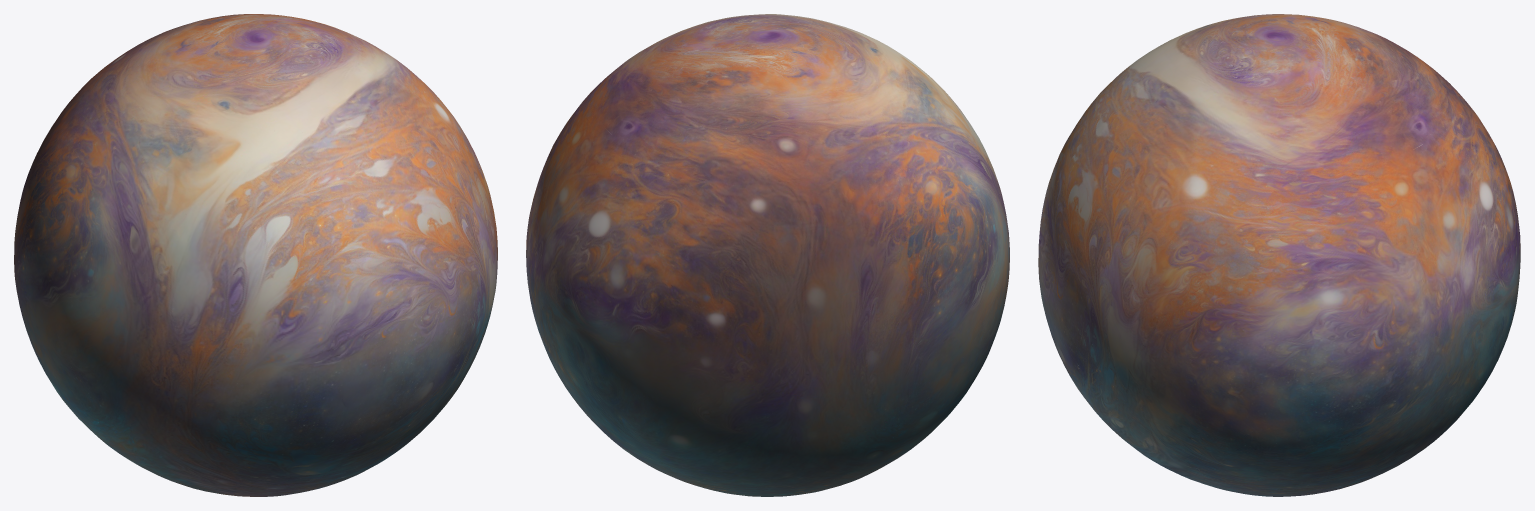
The model's file is vortex.glb.
The picture shows the model from 3 angles, left to right: view 1: azimuth 30°, elevation 25°; view 2: azimuth 150°, elevation 25°; view 3: azimuth 270°, elevation 25°; orthographic projection.
Size of the model in its own units: 2 by 2 by 2.
1 material, 1 textured.
